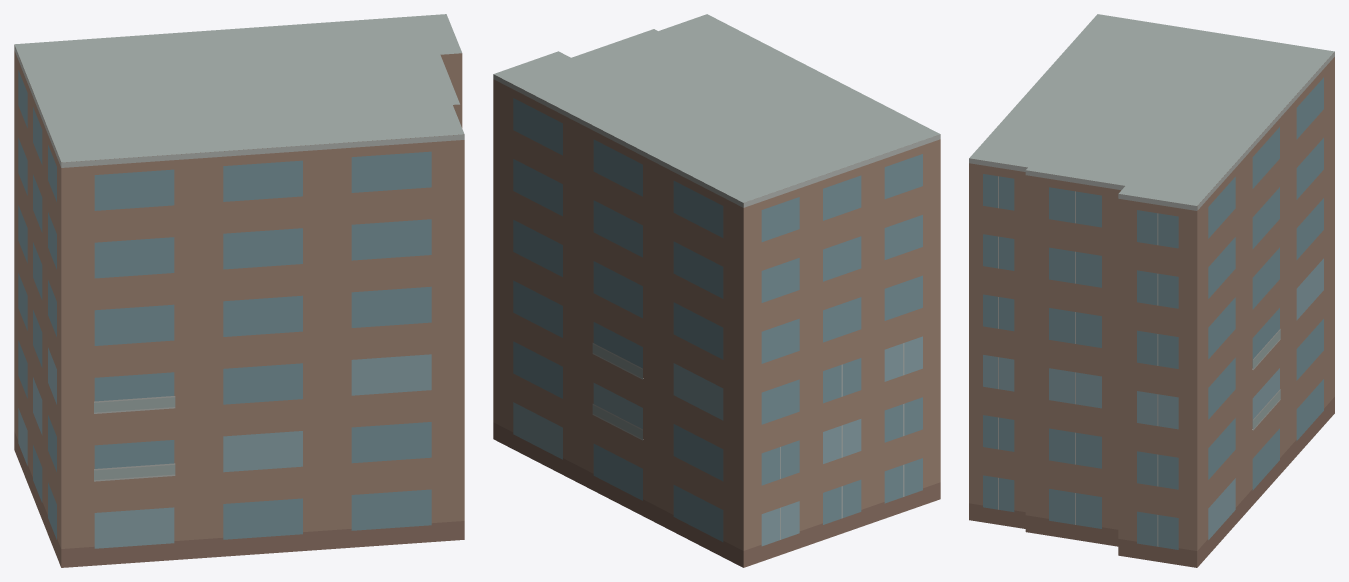
Rendered from survey-upis-32710345.glb.
3 renders of one model, left to right at view 1: azimuth 30°, elevation 25°; view 2: azimuth 150°, elevation 25°; view 3: azimuth 270°, elevation 25°, orthographic. The views are drawn at different scales.
Parts seen in each view (by area): view 1: survey-upis-32710345.tmp; view 2: survey-upis-32710345.tmp; view 3: survey-upis-32710345.tmp.
Boxes of the visible parts, x1,y1,x2,y2 form: survey-upis-32710345.tmp: (14,14,464,567); survey-upis-32710345.tmp: (493,14,940,567); survey-upis-32710345.tmp: (969,14,1334,567).
Bounding box in the file's own units: 20.27 × 17.8 × 16.32.
